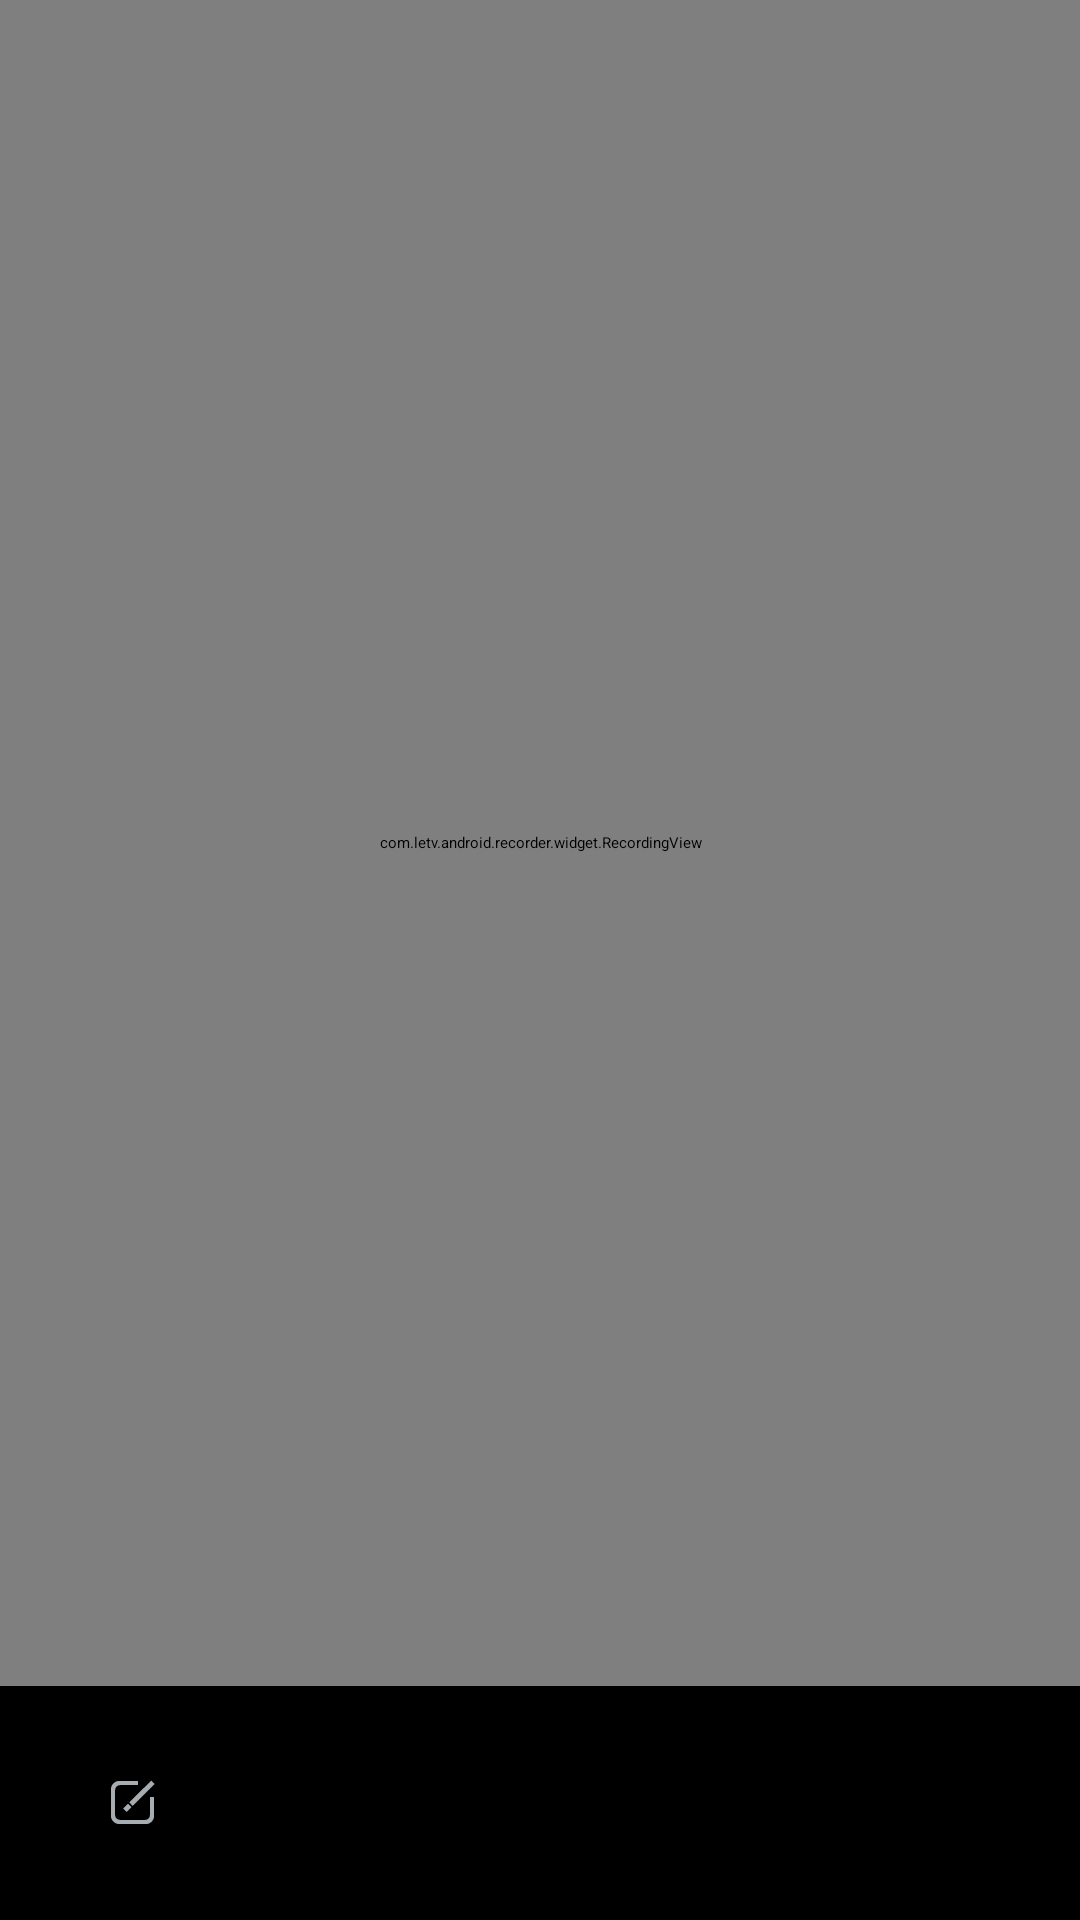

Named icons in this screenshot (1080*1920) and their bounding boxes, (x1,y1,x2,y2):
rec recording rename: (111,1781,155,1824)
